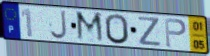1: (21, 7, 33, 38)
J: (49, 9, 69, 41)
M: (74, 10, 106, 45)
O: (104, 13, 131, 46)
P: (163, 17, 188, 49)
Z: (137, 15, 162, 48)
